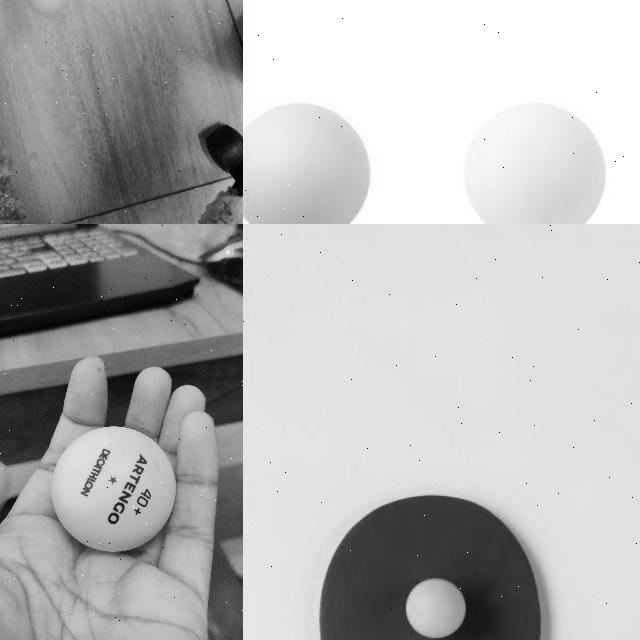ping-pong-ball: (464, 103, 606, 222), (243, 102, 372, 223), (52, 426, 176, 550), (408, 576, 464, 638), (25, 0, 63, 16)
